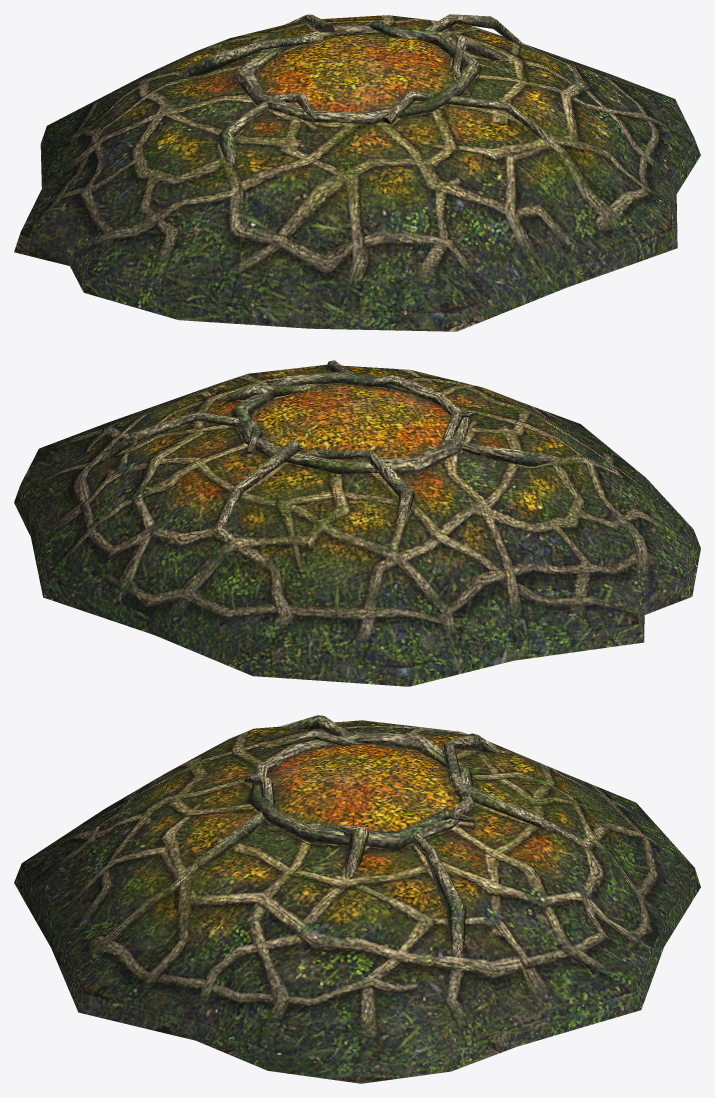
File: deadmushroom_01.glb
3 renders of one model, top to bottom at view 1: azimuth 30°, elevation 25°; view 2: azimuth 150°, elevation 25°; view 3: azimuth 270°, elevation 25°, orthographic. The views are drawn at different scales.
Parts seen in each view (by area): view 1: deadmushroom_01; view 2: deadmushroom_01; view 3: deadmushroom_01.
Boxes of the visible parts, box(x1,y1,x2,y2) form: deadmushroom_01: box(14, 14, 700, 331); deadmushroom_01: box(14, 360, 700, 686); deadmushroom_01: box(14, 715, 700, 1083).
Bounding box in the file's own units: 6.06 × 1.25 × 5.32.
Materials: 1 (1 with a texture image).
